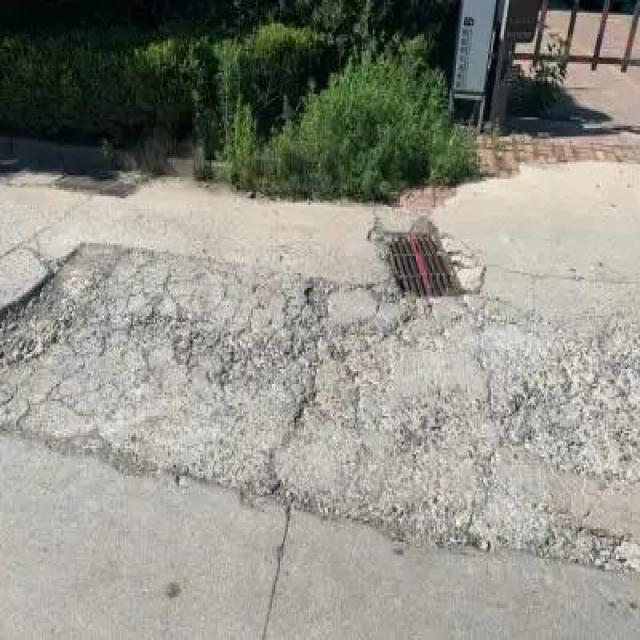Pothole: (0, 237, 638, 572), (371, 222, 466, 294)
